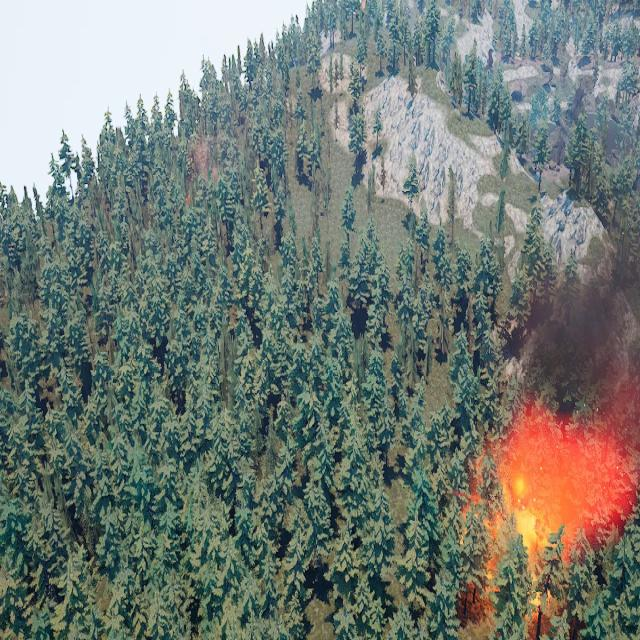fire: (459, 425, 560, 640)
smoke: (484, 238, 640, 552)
